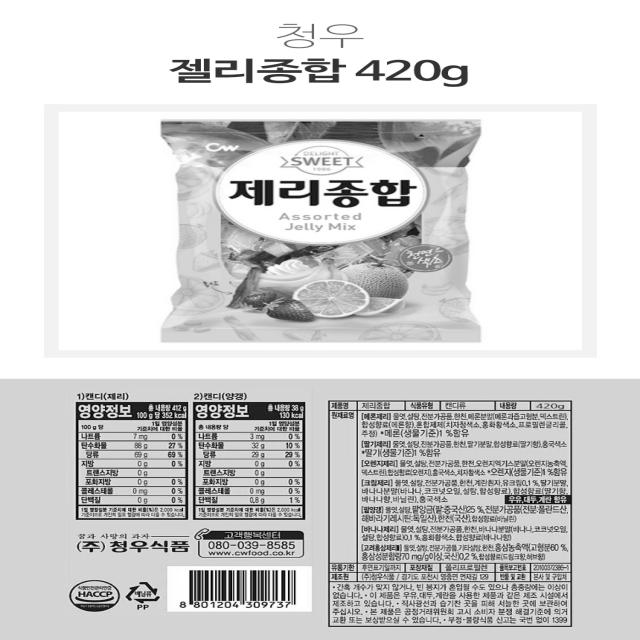Nutrition Label: (69, 384, 188, 529)
